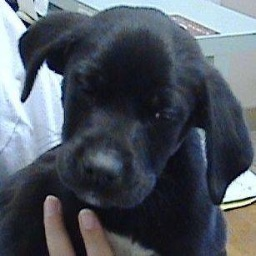dog: (7, 6, 251, 246)
